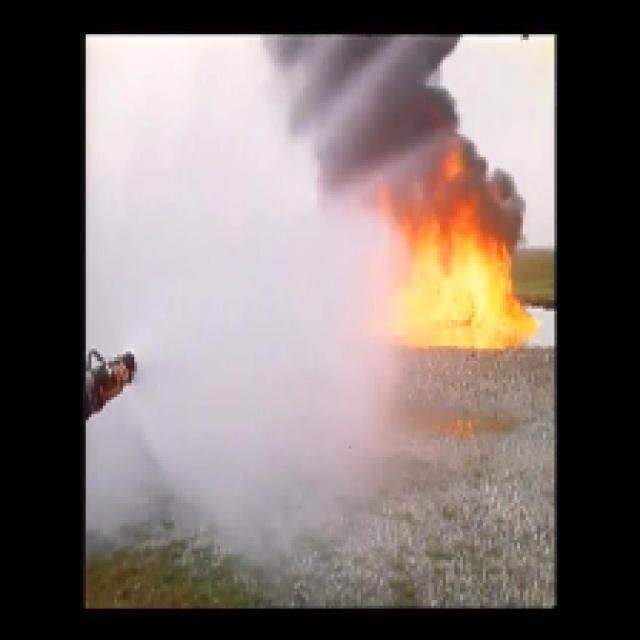Fire: (402, 218, 548, 363)
Smoke: (316, 36, 442, 160)
